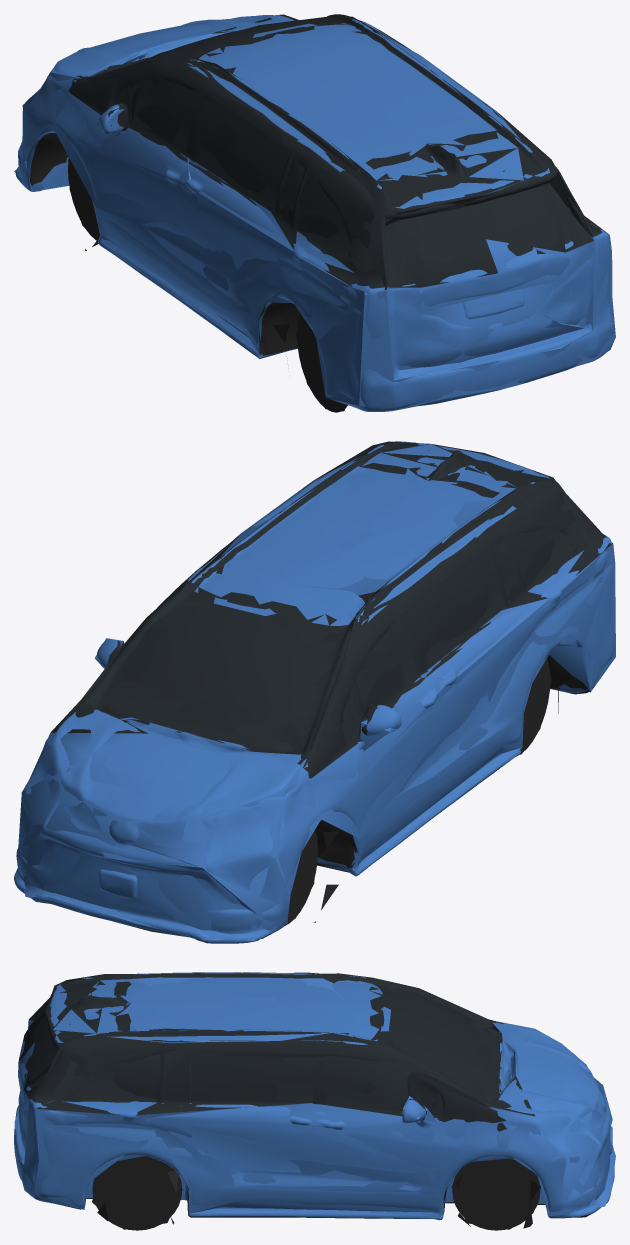
File: toyota-sienna.glb
The picture shows the model from 3 angles, top to bottom: view 1: azimuth 30°, elevation 25°; view 2: azimuth 150°, elevation 25°; view 3: azimuth 270°, elevation 25°; orthographic projection. The views are drawn at different scales.
Parts seen in each view (by area): view 1: body, far; view 2: body, far; view 3: body, far.
Part boxes in pixels (x1,y1,x2,y2): body: (15,14,613,412); far: (14,14,615,411); body: (14,441,615,943); far: (17,441,615,940); body: (14,972,614,1230); far: (14,972,615,1229).
Bounding box in the file's own units: 2.32 × 1.9 × 5.22.
